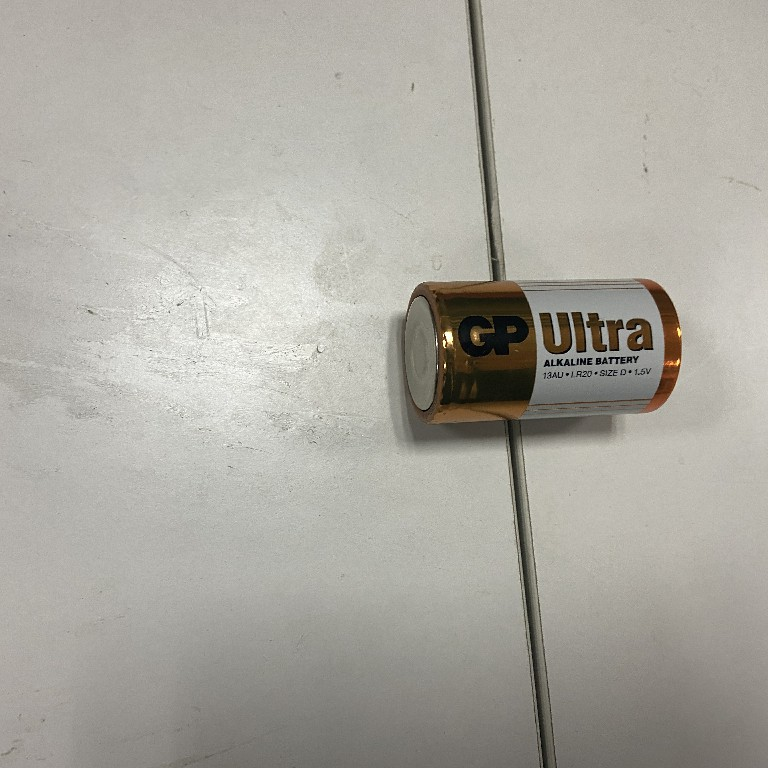charge: (398, 272, 685, 431)
